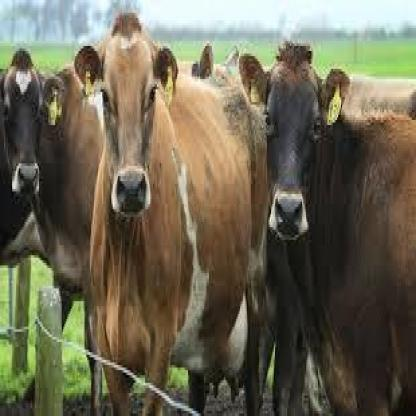cow: (75, 13, 270, 416), (239, 41, 416, 416), (0, 47, 66, 264)
